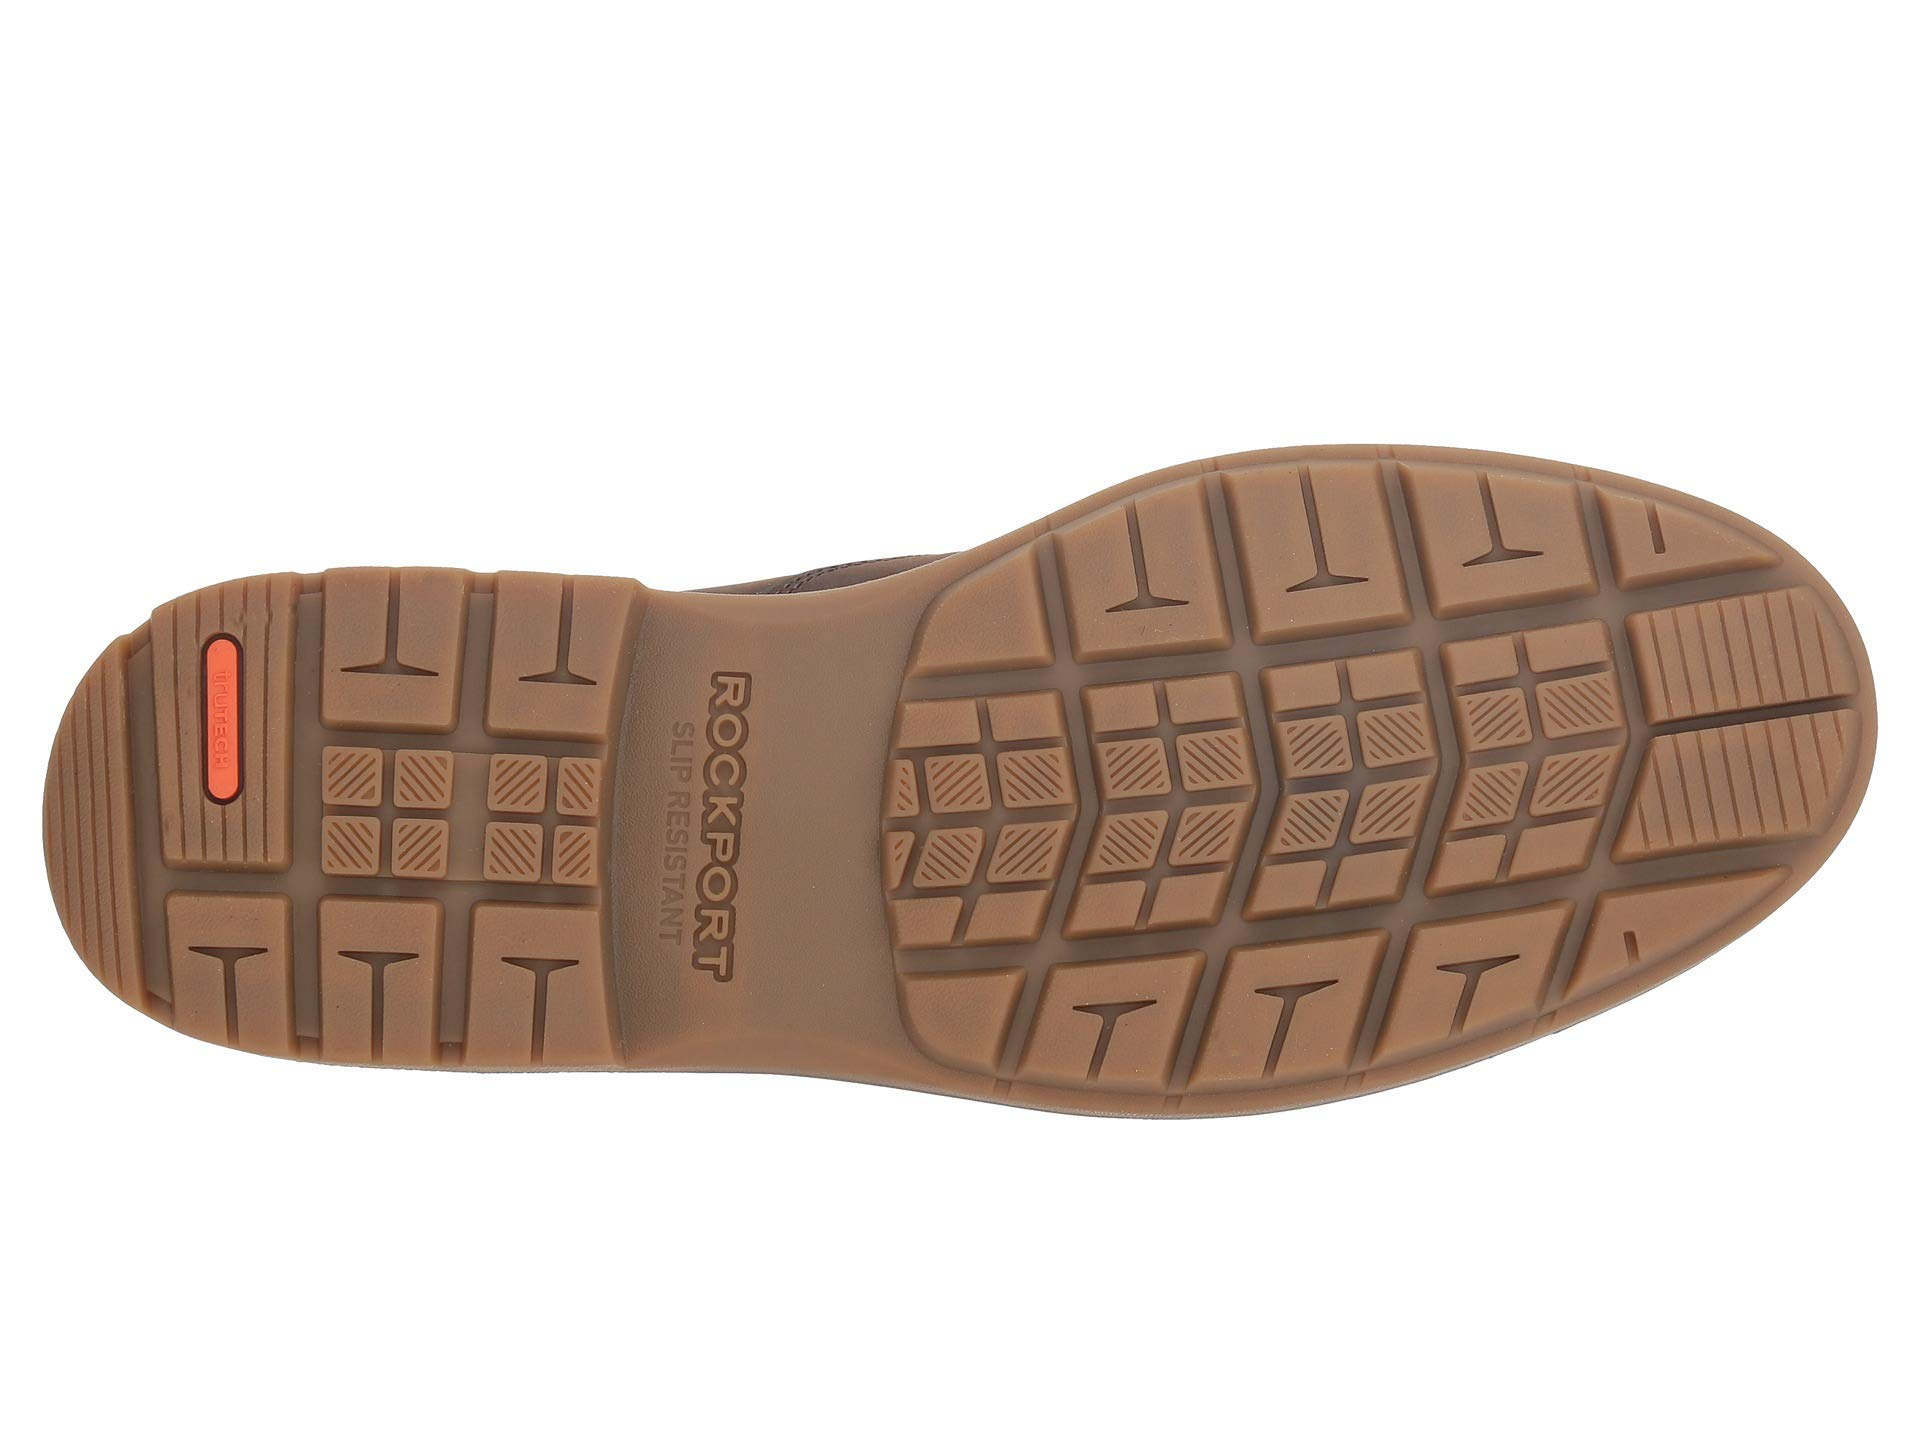exclude: (608, 535, 983, 1094)
line: (302, 732, 614, 908), (1064, 673, 1255, 938), (1267, 635, 1435, 921), (1450, 607, 1618, 889), (900, 743, 1069, 900), (171, 616, 278, 862), (53, 753, 124, 947)
quad: (302, 732, 614, 908), (1064, 673, 1255, 938), (1267, 635, 1435, 921), (1450, 607, 1618, 889), (1628, 578, 1817, 731), (900, 743, 1069, 900), (171, 616, 278, 862), (1628, 732, 1843, 833)
text: (171, 616, 278, 862)
triangle: (302, 732, 614, 908)
